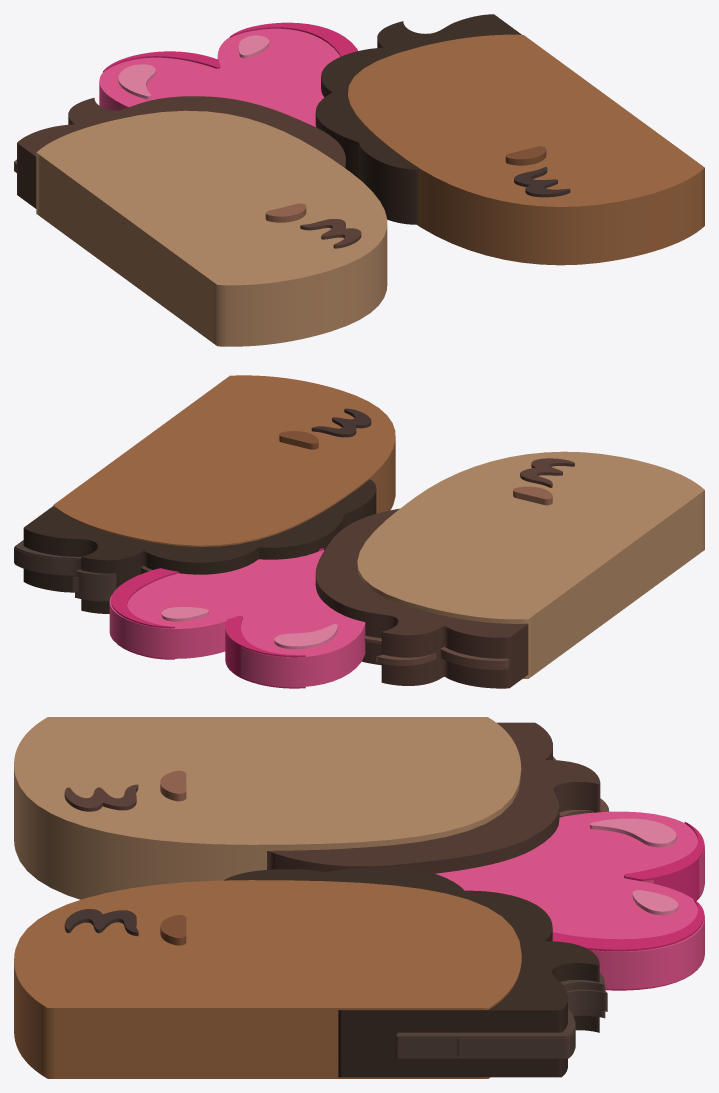
Rendered from emoji_u1f9d1_1f3fd_200d_2764_200d_1f48b_200d_1f9d1_1f3fe.glb.
The picture shows the model from 3 angles, top to bottom: view 1: azimuth 30°, elevation 25°; view 2: azimuth 150°, elevation 25°; view 3: azimuth 270°, elevation 25°; orthographic projection. The views are drawn at different scales.
Parts seen in each view (by area): view 1: emoji_u1f9d1_1f3fd_200d_2764_200d_1f48b_200d_1f9d1_1f3fe; view 2: emoji_u1f9d1_1f3fd_200d_2764_200d_1f48b_200d_1f9d1_1f3fe; view 3: emoji_u1f9d1_1f3fd_200d_2764_200d_1f48b_200d_1f9d1_1f3fe.
Boxes of the visible parts, <box> form: emoji_u1f9d1_1f3fd_200d_2764_200d_1f48b_200d_1f9d1_1f3fe: <box>14,14,704,346</box>; emoji_u1f9d1_1f3fd_200d_2764_200d_1f48b_200d_1f9d1_1f3fe: <box>14,375,704,688</box>; emoji_u1f9d1_1f3fd_200d_2764_200d_1f48b_200d_1f9d1_1f3fe: <box>14,717,704,1078</box>.
Size of the model in its own units: 0.0338 by 0.0048 by 0.0336.
